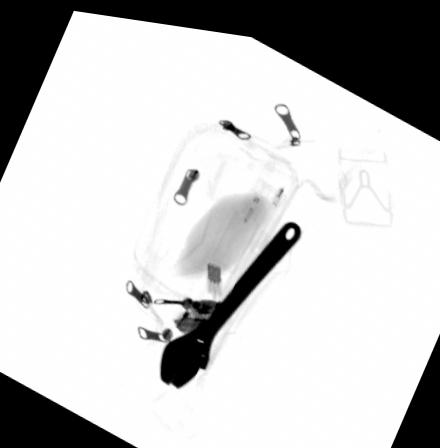Wrench: (156, 211, 303, 386)
